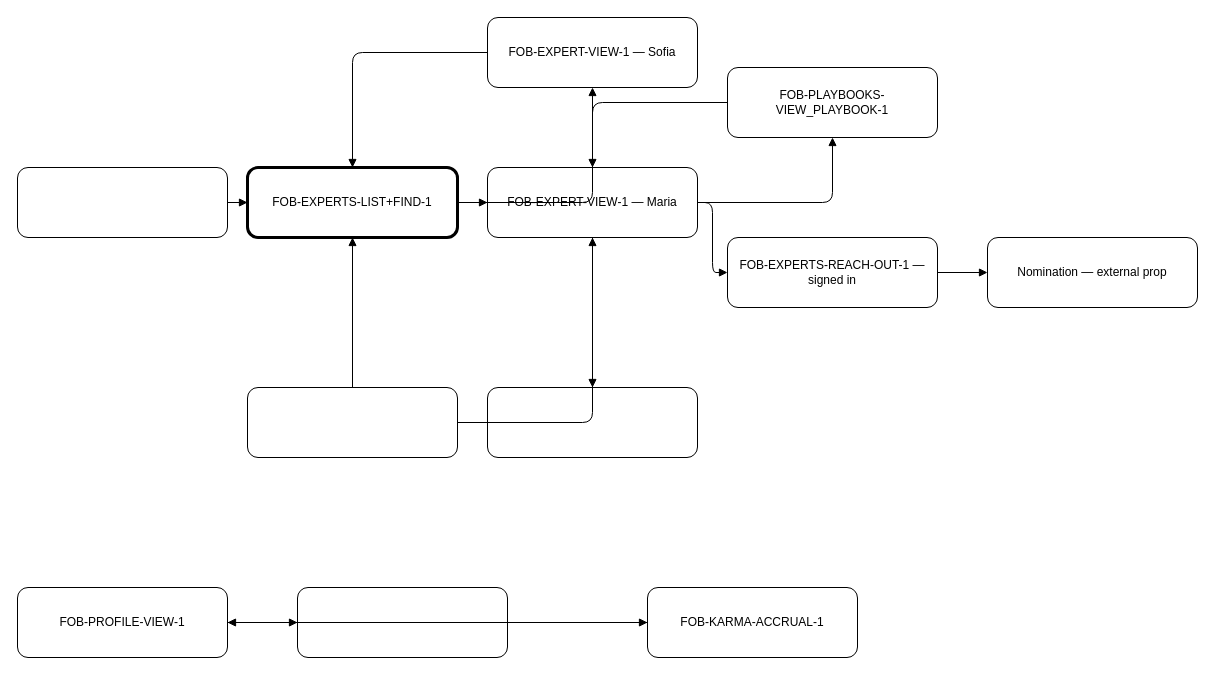
This 1215x675 diagram has some shape labels left out. Here are the shapes that lost their labels. From the top down, the centre of each, then its label:
[122,202]: Cedar brief — external prop
[352,422]: Bob — guest public access
[592,422]: FOB-EXPERTS-REACH-OUT-1 — guest
[402,622]: FOB-GALDR-CONTRIBUTION-SUMMARY-1
